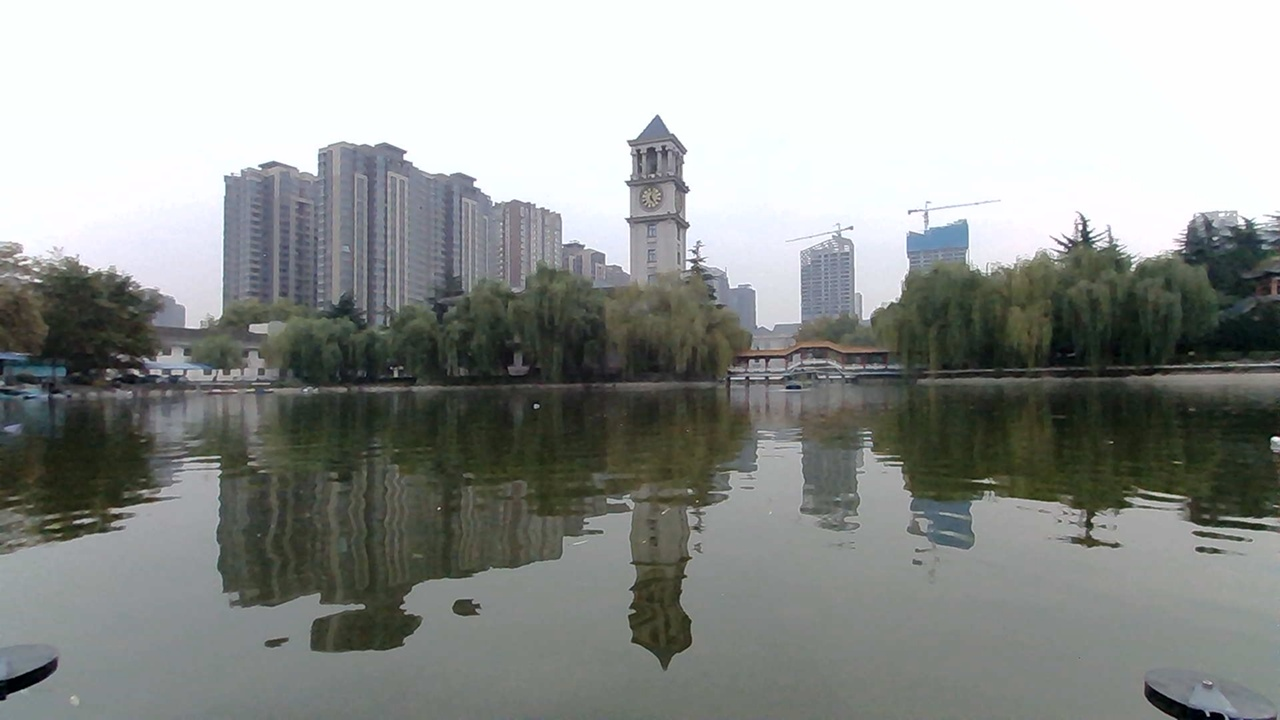bottle: (1254, 427, 1280, 458)
